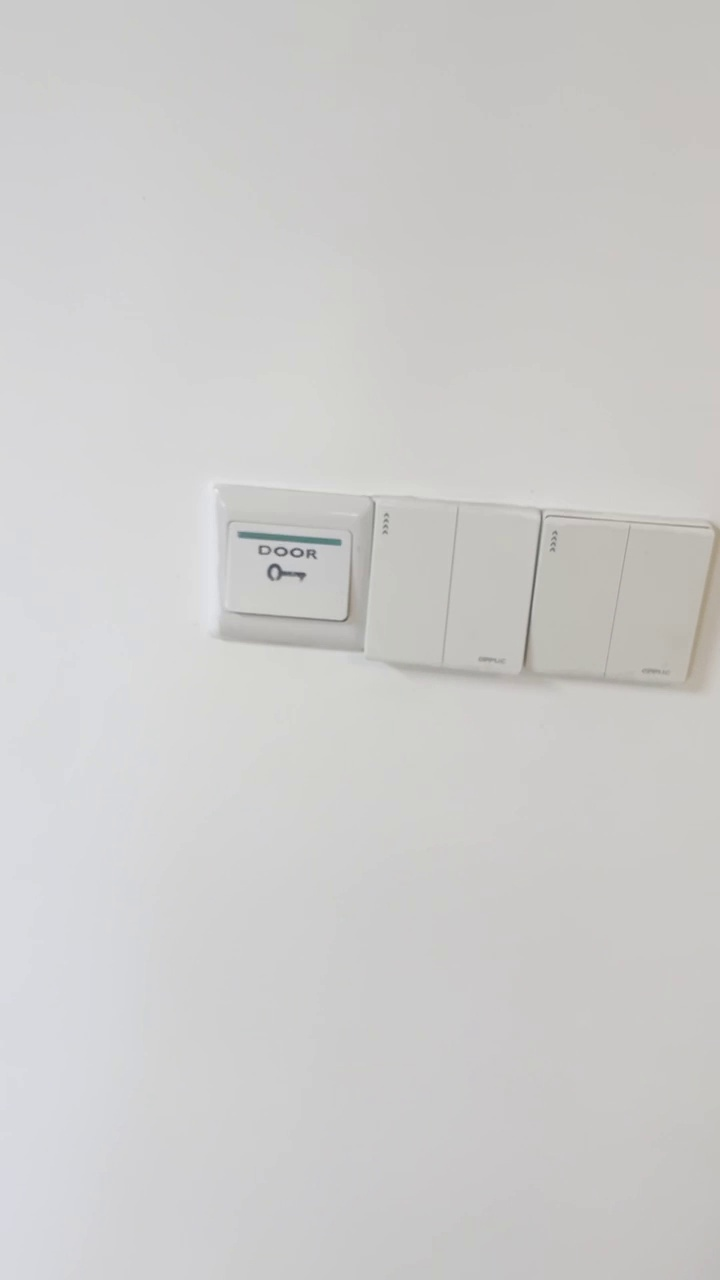button: (532, 508, 717, 694), (365, 491, 539, 679)
